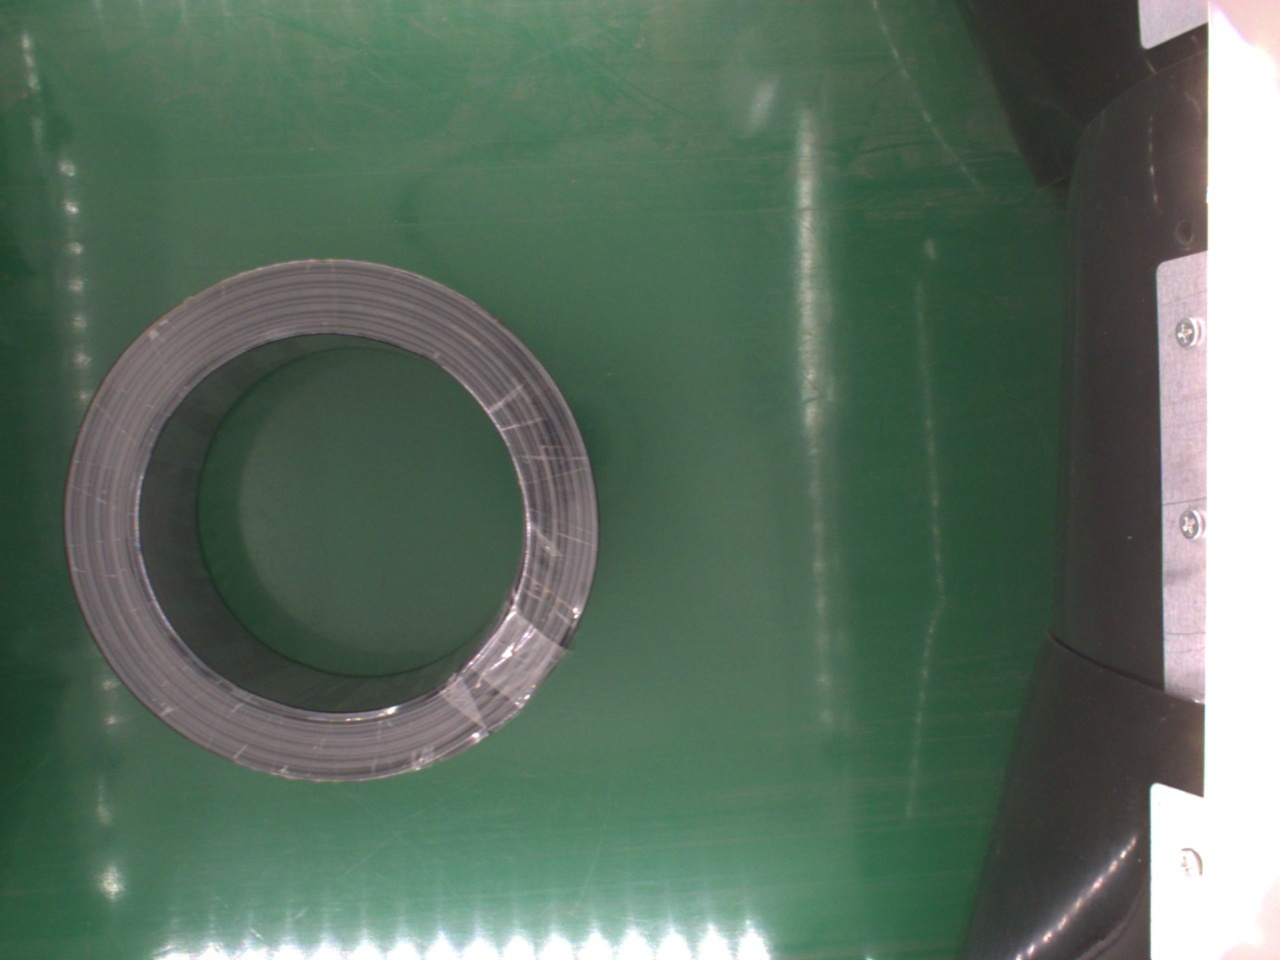black: (58, 257, 600, 784)
